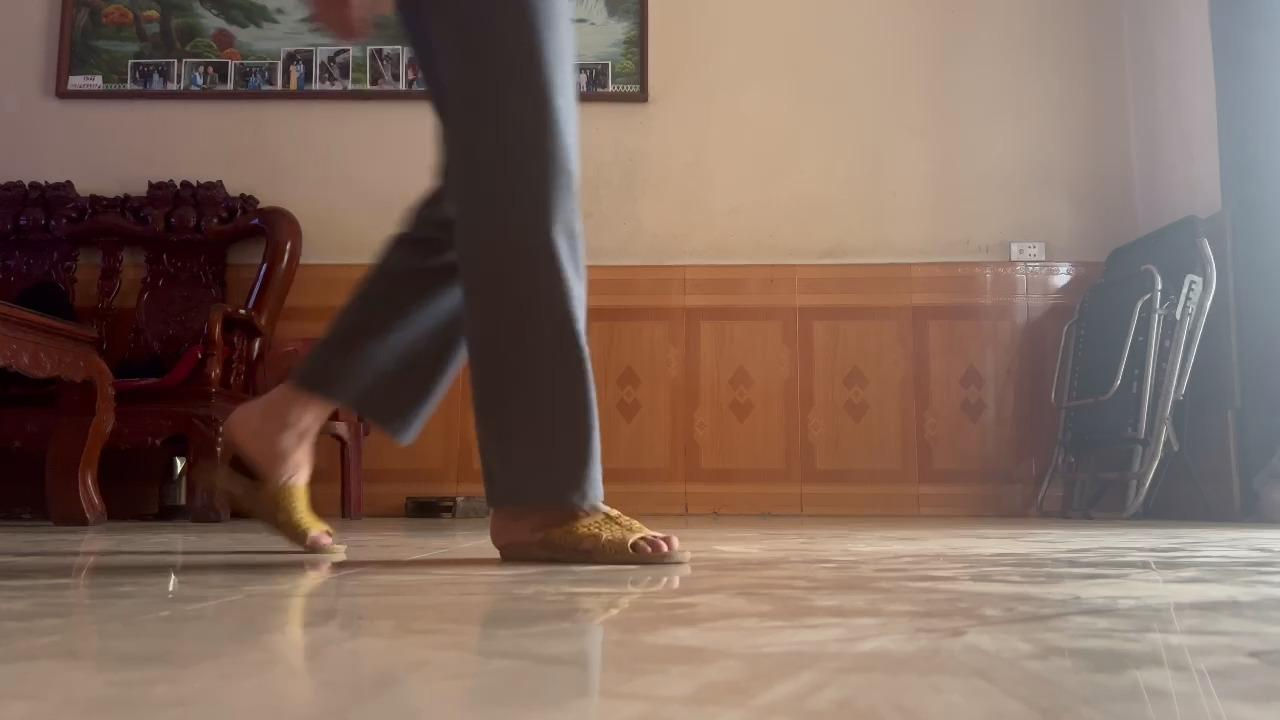no-boot: (207, 407, 362, 561), (477, 513, 697, 575)
